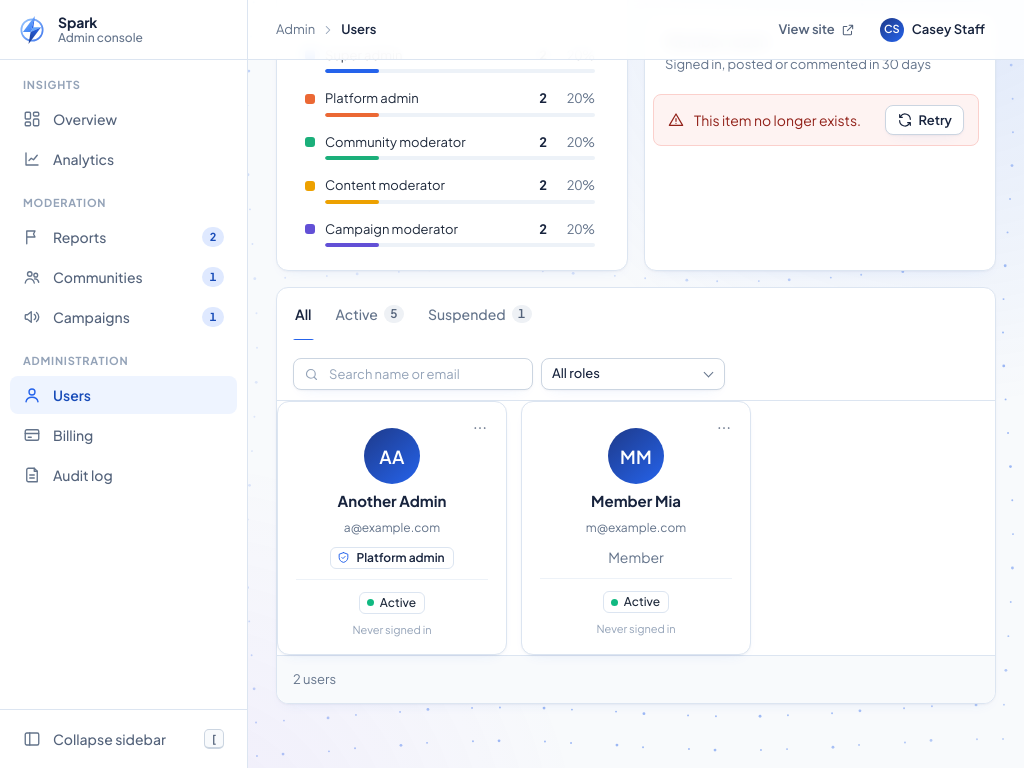
Test: review fixes › shows no suspend button on admin-tier accounts unless the viewer is a super admin
(page scrolled)
Step 1. Click the button named "Actions for Member Mia" → (724, 428), box [708,412,740,444]
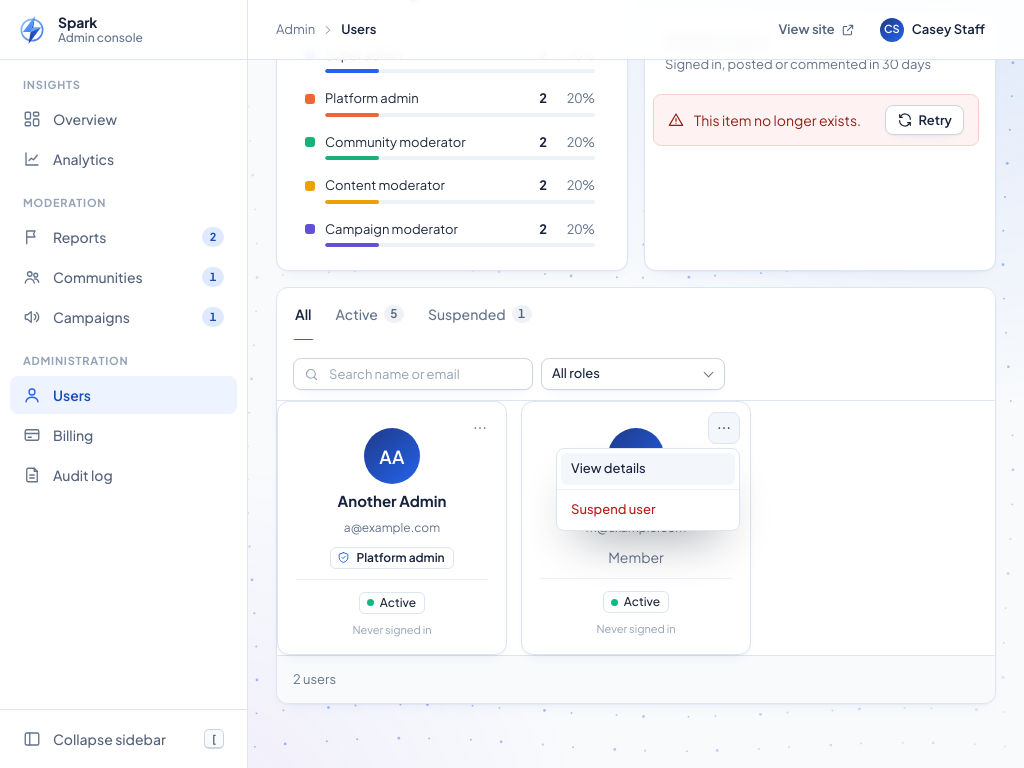
Now the menu items read "View details", "Suspend user", in this order, box [561,453,735,485]; [561,494,735,526]
Step 2. Press Arrowdown
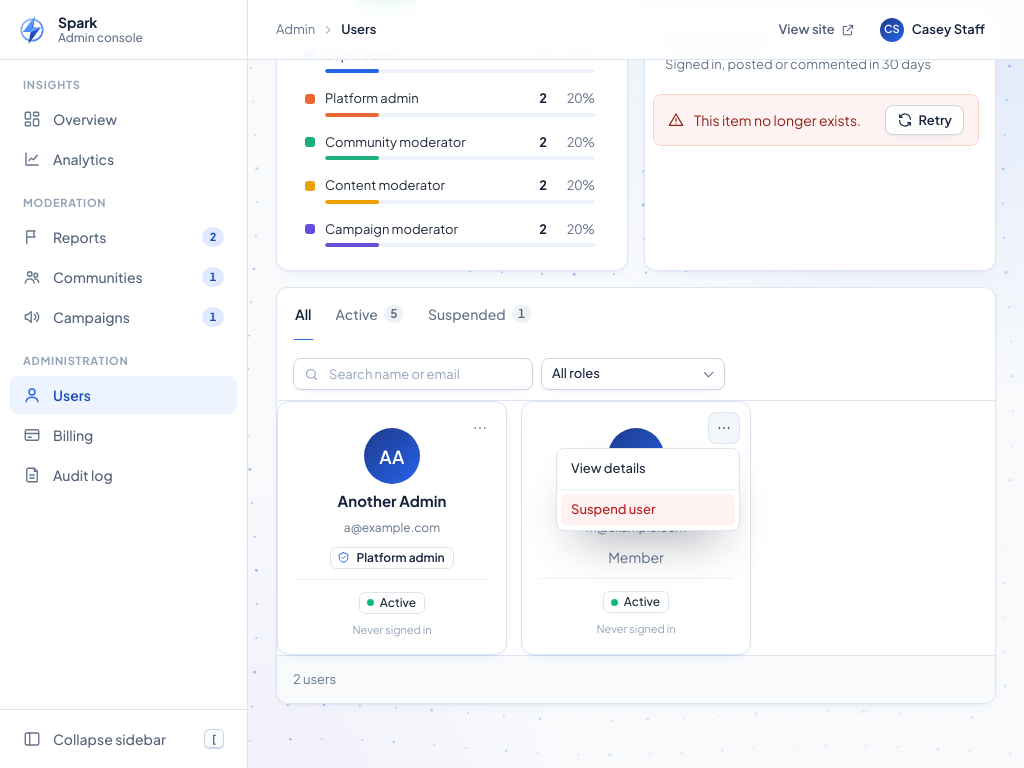
Step 3. Press Escape
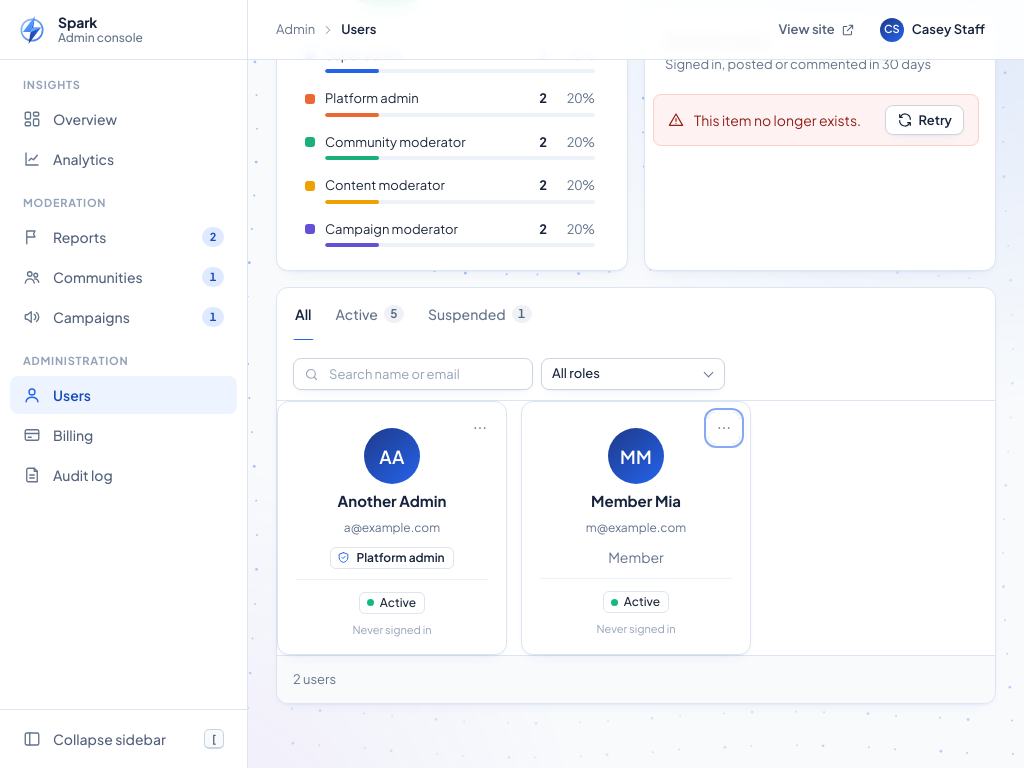
Now the menu is gone
Step 4. Click the button named "Actions for Another Admin" → (480, 428), box [464,412,496,444]
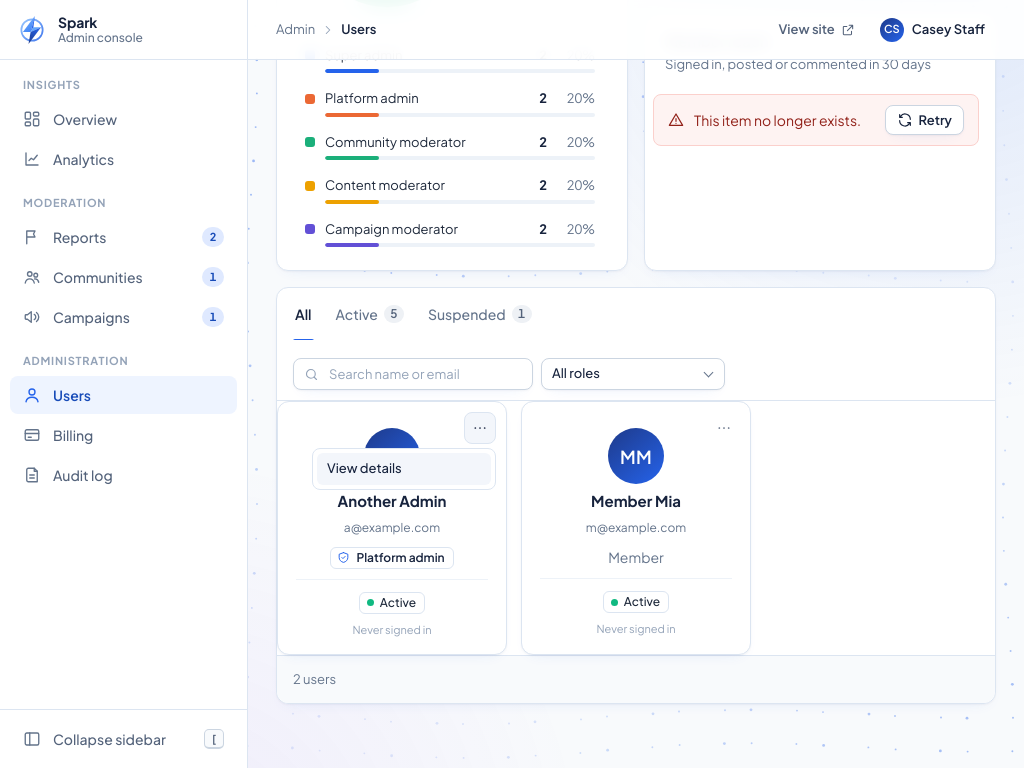
Now the menu items read "View details", in this order, box [317,453,491,485]
